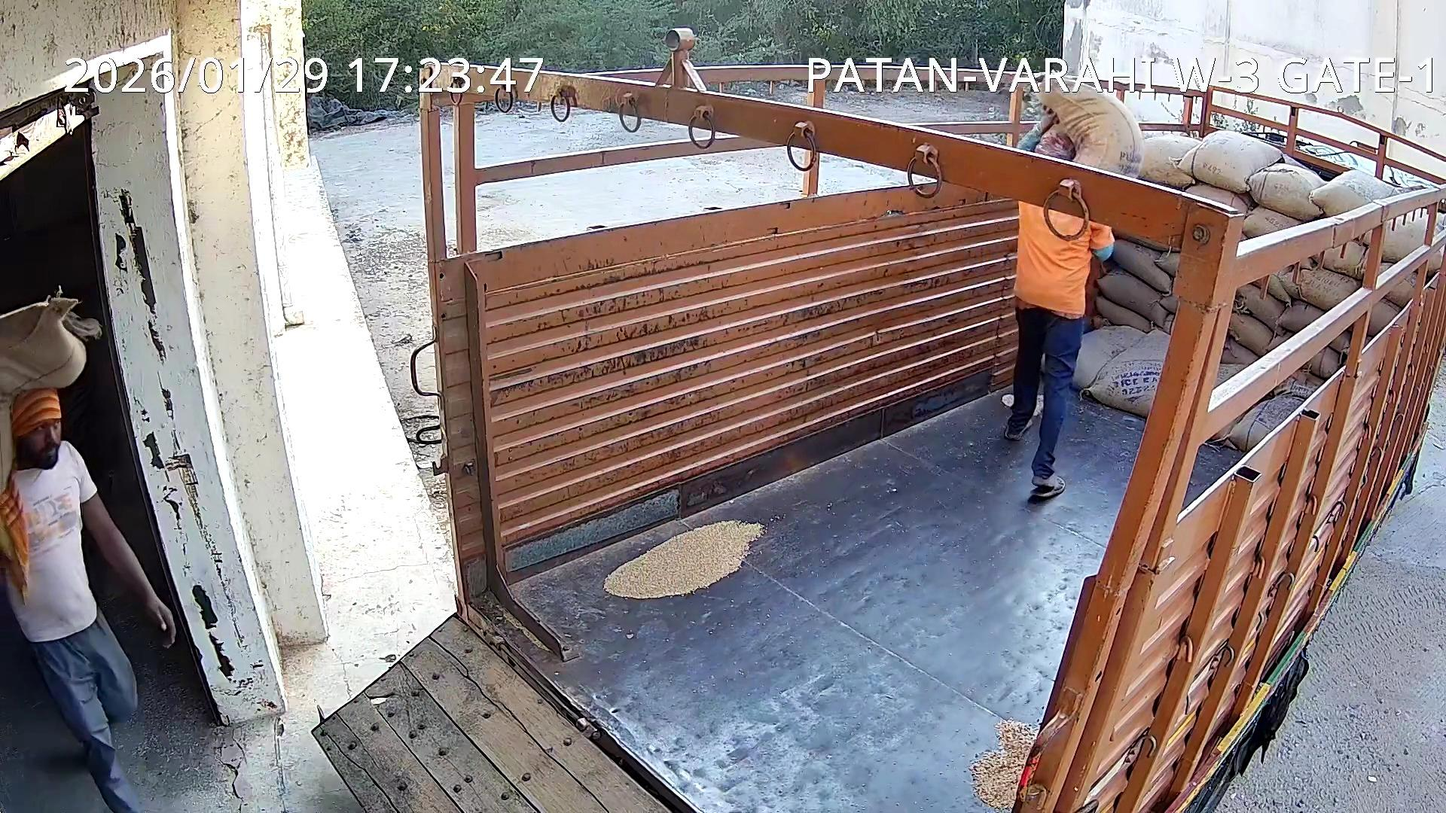Sack: (0, 297, 99, 417)
